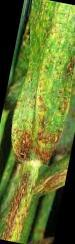Wheat: (0, 118, 64, 238)
